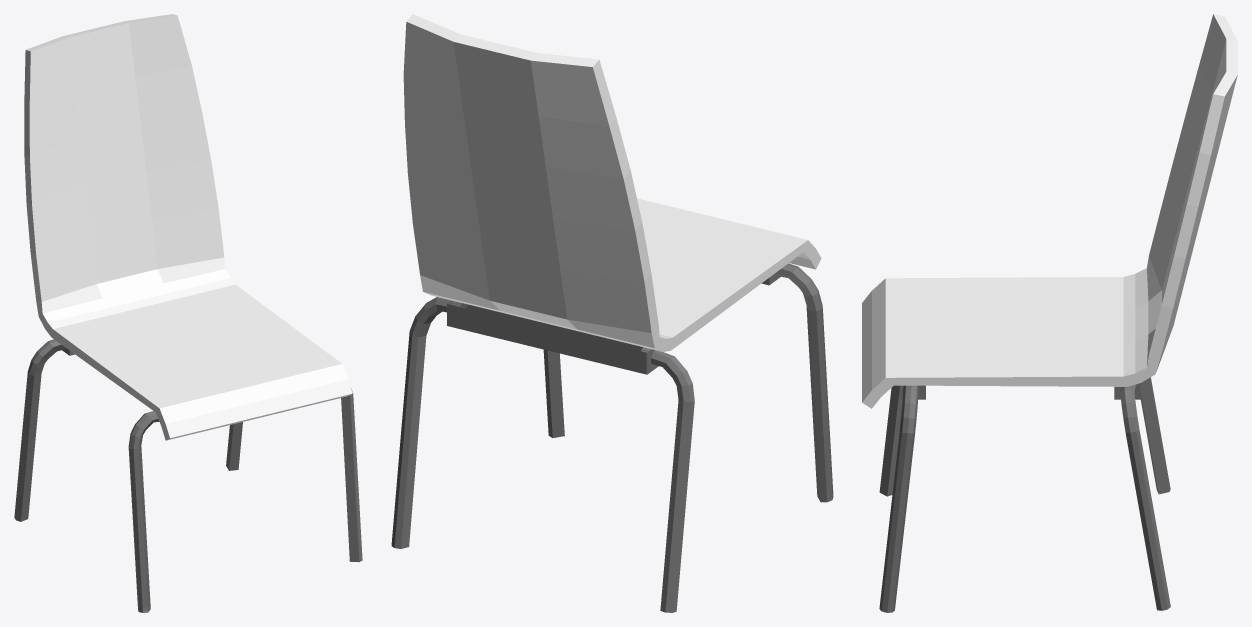
File: StuhlTex.fbx
The picture shows the model from 3 angles, left to right: view 1: azimuth 30°, elevation 25°; view 2: azimuth 150°, elevation 25°; view 3: azimuth 270°, elevation 25°; orthographic projection. The views are drawn at different scales.
Visible parts, largest first — view 1: Stuhlplatte, StuhlpaarHinten, StuhlpaarVorne; view 2: Stuhlplatte, StuhlpaarVorne, StuhlpaarHinten, StuhlbefestigungHinten; view 3: Stuhlplatte, StuhlpaarHinten, StuhlpaarVorne.
Boxes of the visible parts, <box> form: Stuhlplatte: <box>24,14,352,440</box>; StuhlpaarHinten: <box>128,388,362,612</box>; StuhlpaarVorne: <box>14,339,242,521</box>; Stuhlplatte: <box>403,14,821,351</box>; StuhlpaarVorne: <box>391,297,694,612</box>; StuhlpaarHinten: <box>543,263,833,502</box>; StuhlbefestigungHinten: <box>447,300,658,374</box>; Stuhlplatte: <box>862,14,1237,408</box>; StuhlpaarHinten: <box>879,385,918,612</box>; StuhlpaarVorne: <box>1120,377,1170,610</box>.
Size of the model in its own units: 58.77 by 112 by 76.56.
5 materials, 5 textured.
